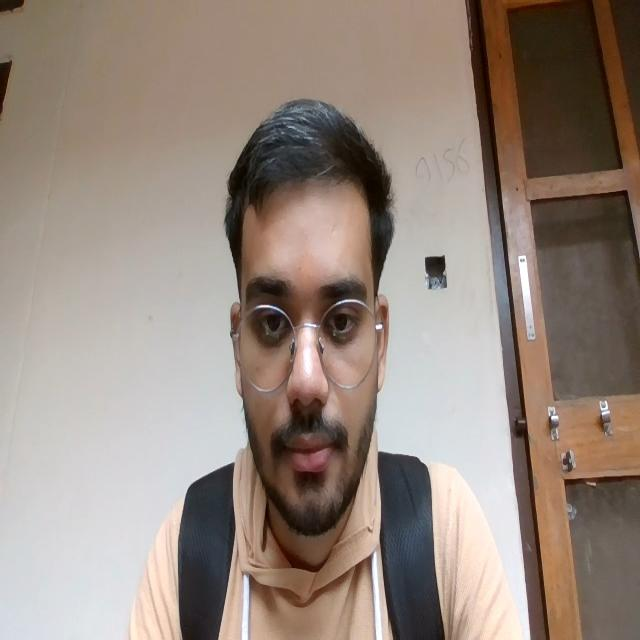awake: (242, 261, 362, 478)
